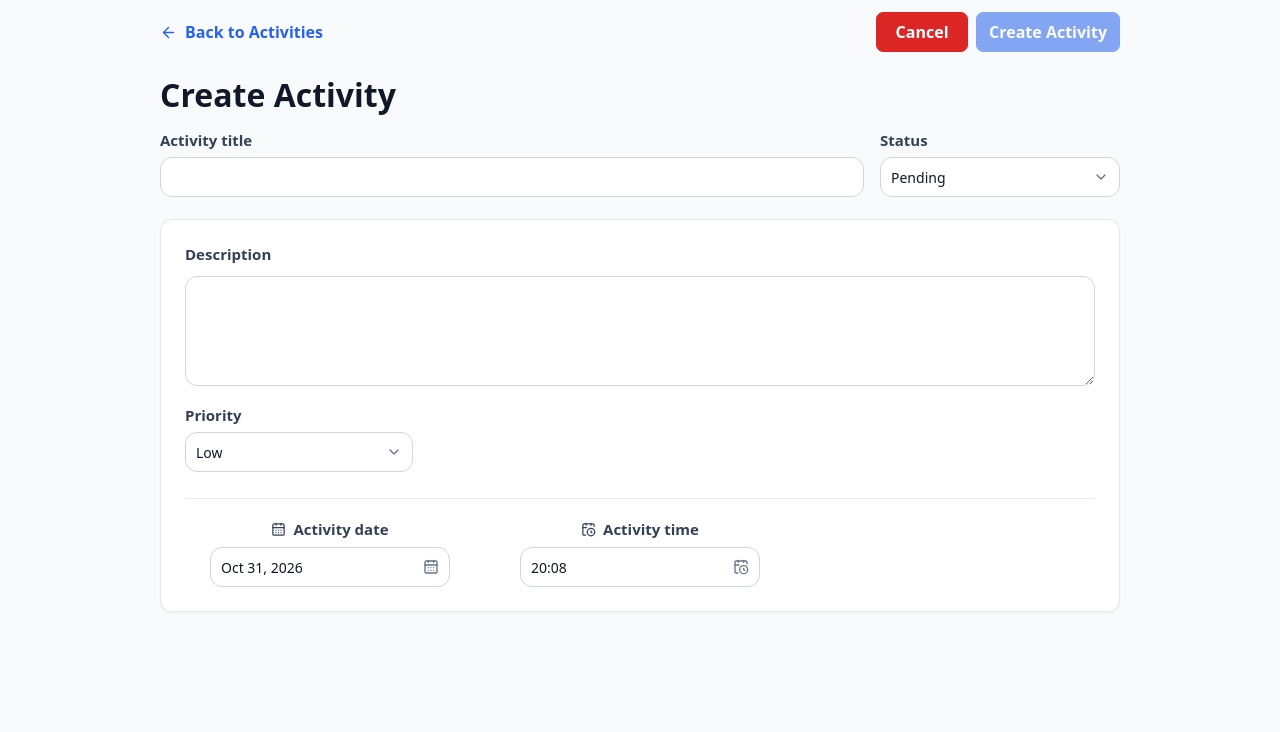
ActivityEditor › shows a create API error and resets submitting state
Type "Fail this create" into the field labelled "Activity title" at point(512, 177), box x1=160 y1=157 x2=864 y2=197
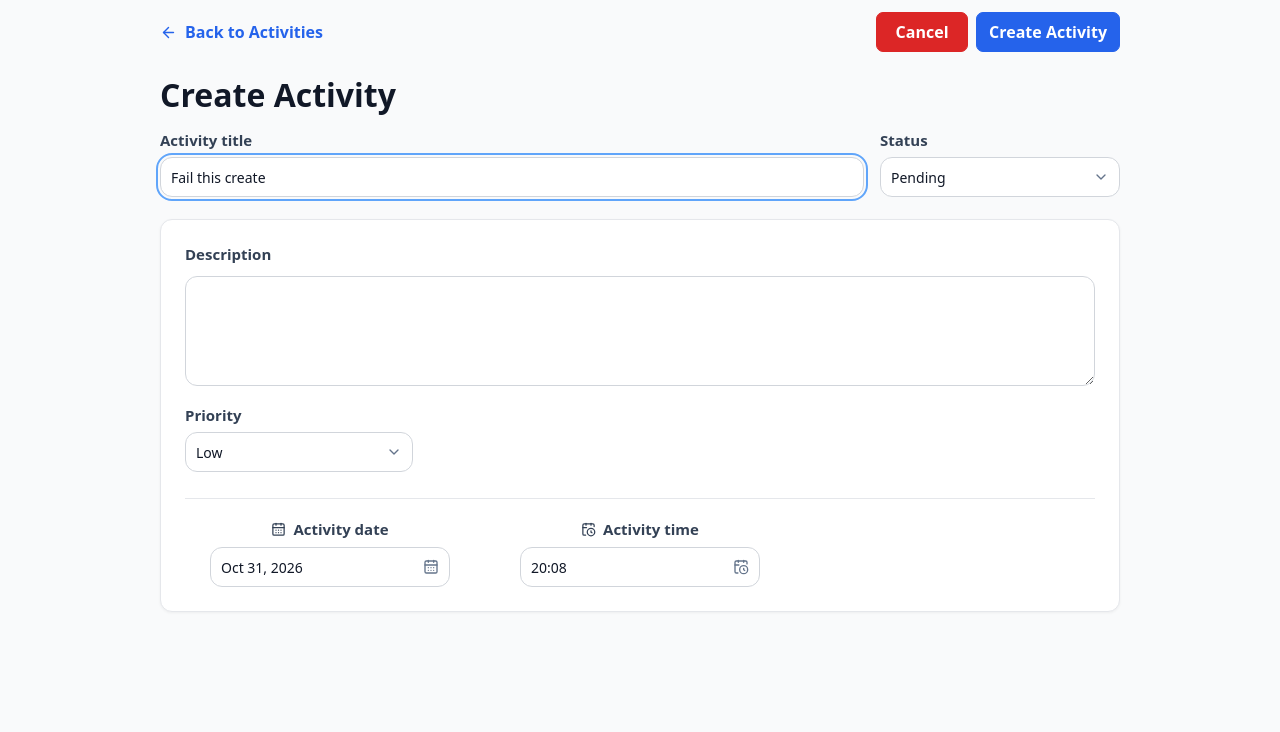
Click the button "Create Activity" at point(1048, 32), box x1=976 y1=12 x2=1120 y2=52
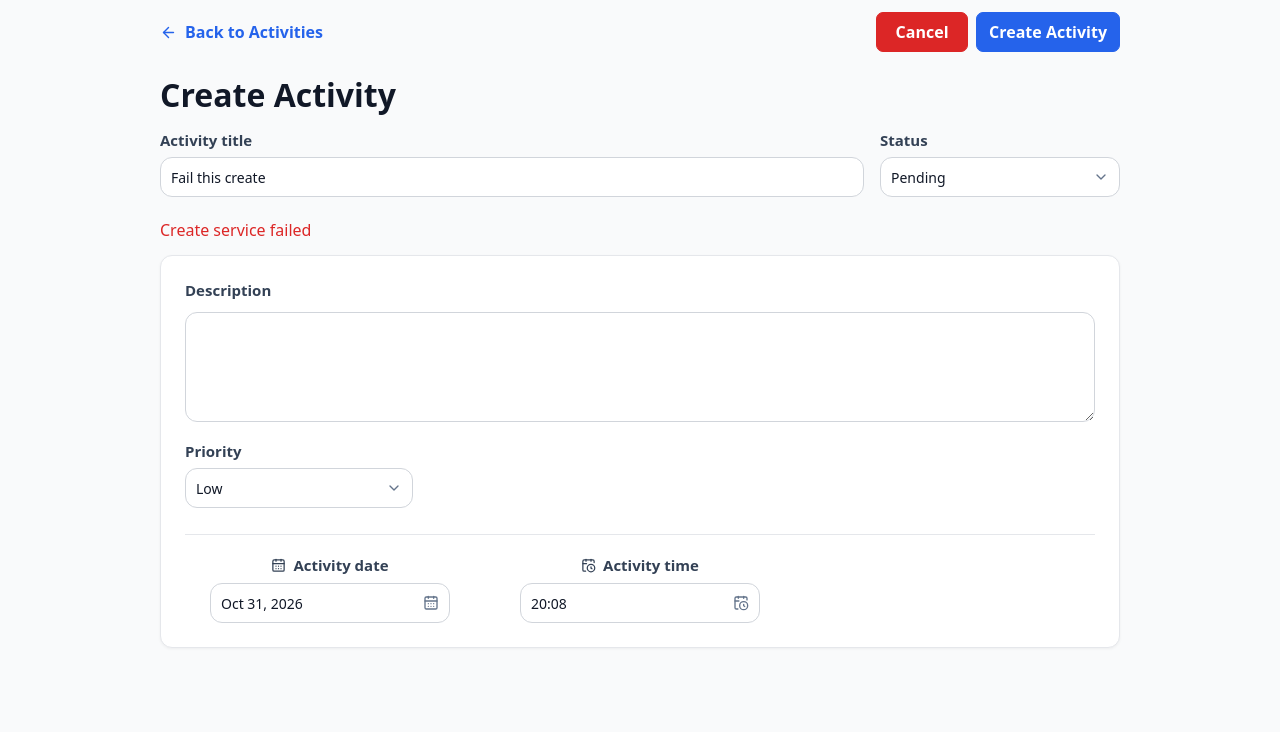
Expected: the message reads "Create service failed", x1=160 y1=219 x2=311 y2=241
